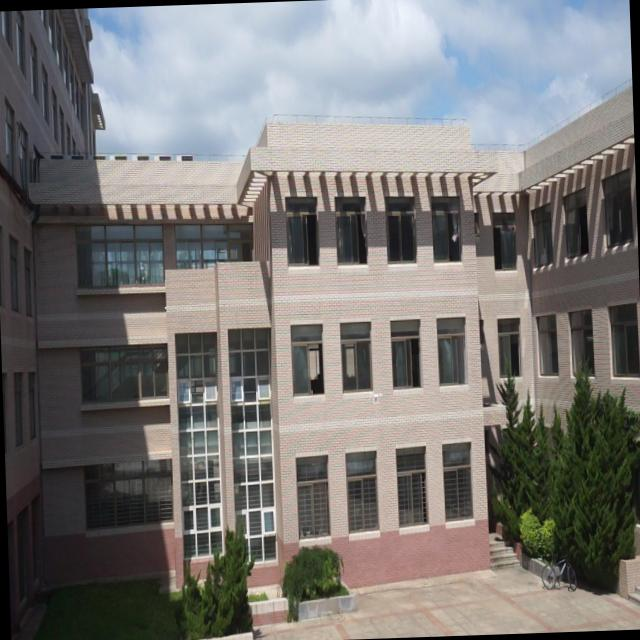drone: (366, 389, 384, 405)
